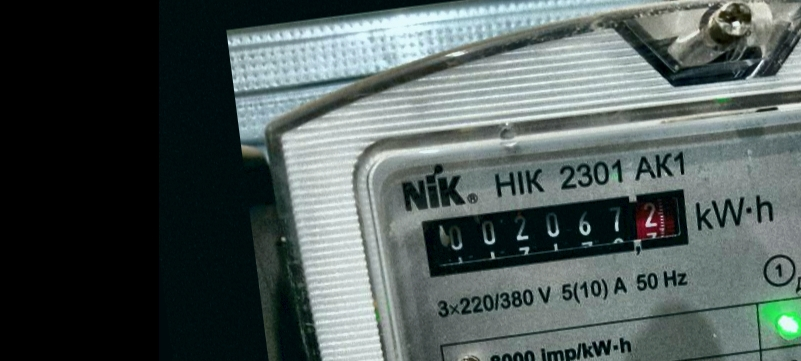0: (446, 220, 467, 251), (479, 214, 500, 245), (542, 206, 563, 236)
2: (640, 196, 662, 227), (512, 210, 533, 241)
6: (575, 205, 596, 236)
7: (608, 201, 627, 233)
screen: (408, 171, 708, 290)
